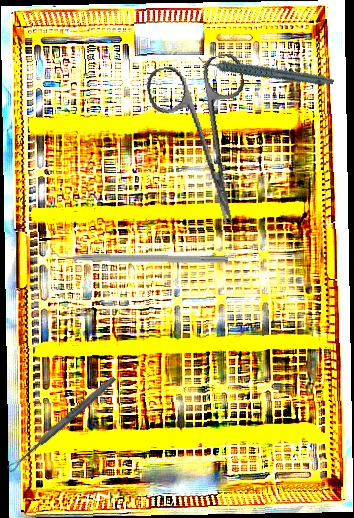Chopper: (49, 243, 229, 264)
Handpiece: (197, 28, 335, 112)
Iris Scissors: (143, 51, 273, 235)
Surgical Spoon: (5, 374, 118, 474)
